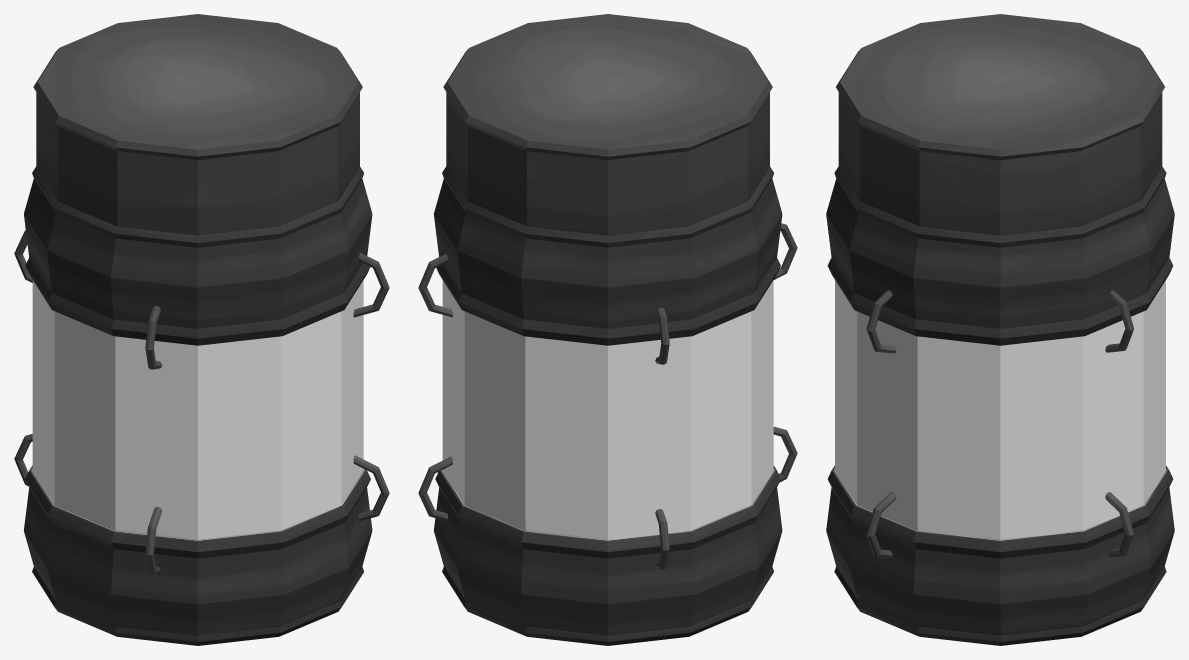
File: MiniContainer.fbx
3 views of the same model, side by side, from view 1: azimuth 30°, elevation 25°; view 2: azimuth 150°, elevation 25°; view 3: azimuth 270°, elevation 25° (orthographic).
Parts seen in each view (by area): view 1: polySurface2, polySurface1, pTorus2 (×2), pTorus1 (×2); view 2: polySurface2, polySurface1, pTorus4 (×2), pTorus3 (×2); view 3: polySurface2, polySurface1, pTorus2 (×2), pTorus4 (×2).
Boxes of the visible parts, bbox=[...] form: polySurface2: bbox=[23, 14, 372, 645]; polySurface1: bbox=[32, 280, 363, 540]; pTorus2 (×2): bbox=[353, 253, 389, 521]; pTorus1 (×2): bbox=[145, 306, 162, 574]; polySurface2: bbox=[433, 14, 782, 645]; polySurface1: bbox=[442, 280, 773, 540]; pTorus4 (×2): bbox=[418, 254, 452, 520]; pTorus3 (×2): bbox=[655, 307, 669, 569]; polySurface2: bbox=[826, 14, 1174, 645]; polySurface1: bbox=[835, 280, 1165, 540]; pTorus2 (×2): bbox=[866, 290, 896, 558]; pTorus4 (×2): bbox=[1105, 290, 1133, 557].
Size of the model in its own units: 31.49 by 49.39 by 31.49.
1 material, 1 textured.
